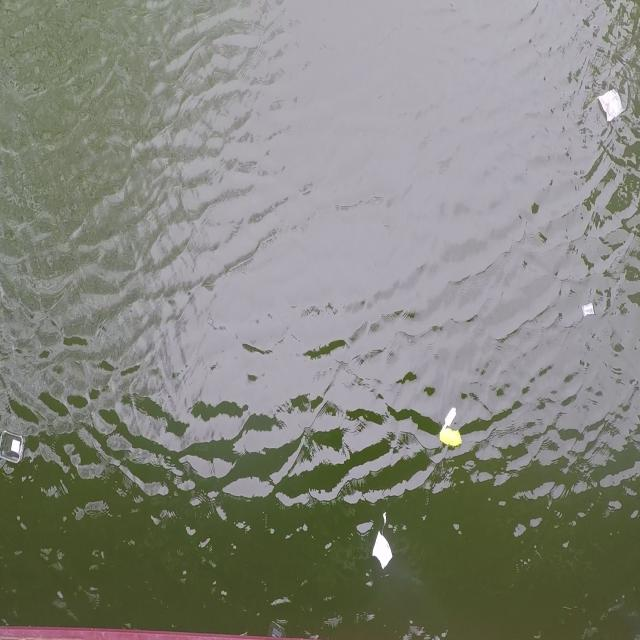Autre plastique: (0, 421, 29, 476)
Sac plastique: (598, 83, 627, 127)
